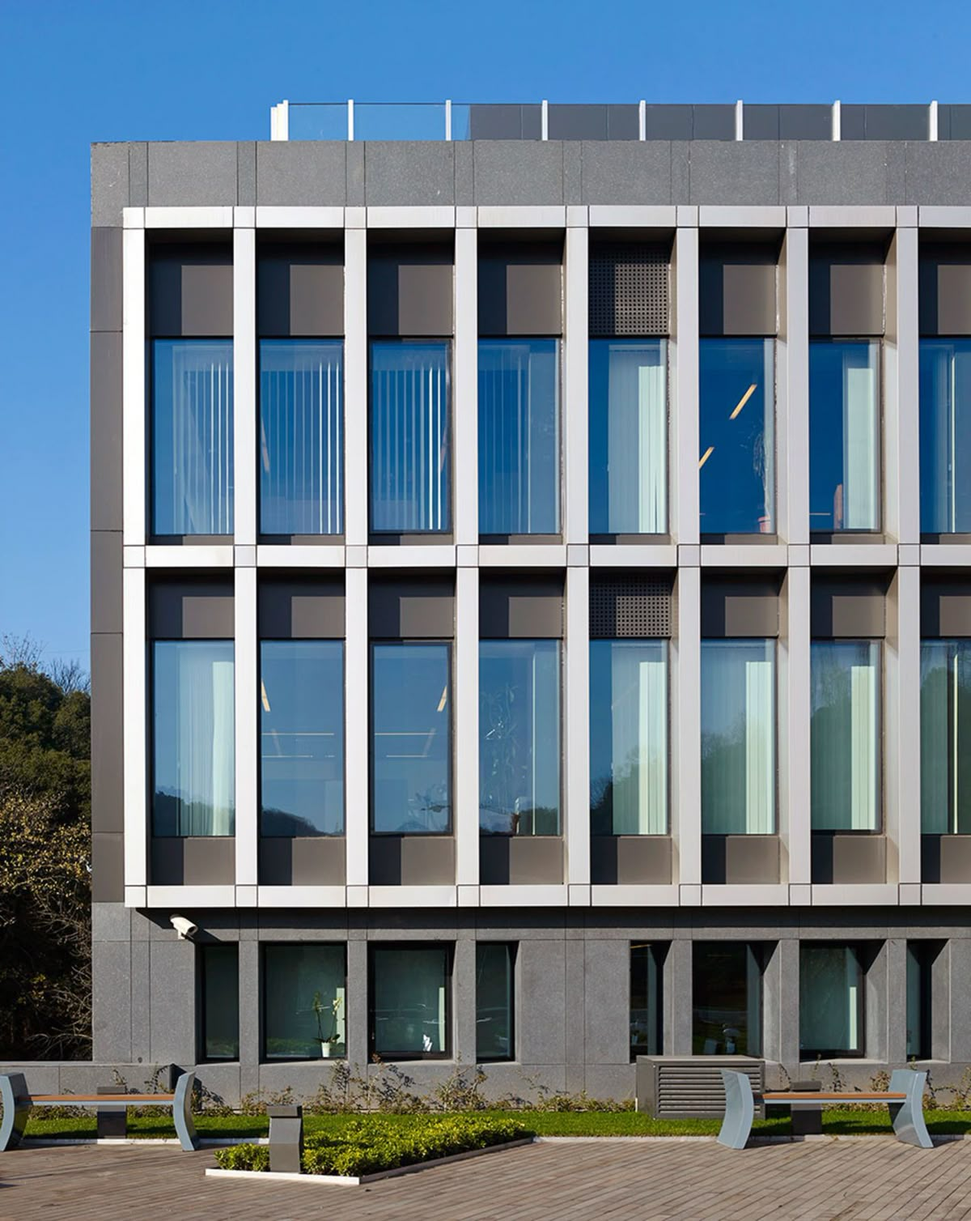glass panel: (259, 339, 343, 535), (260, 640, 344, 836), (151, 339, 234, 535), (152, 640, 235, 836), (478, 338, 560, 535), (479, 640, 561, 835), (589, 338, 668, 534), (371, 643, 452, 834), (370, 341, 451, 532), (590, 639, 668, 835), (699, 338, 775, 534), (701, 639, 776, 834), (810, 341, 880, 532), (811, 640, 880, 832), (920, 339, 971, 534), (921, 639, 971, 834), (263, 944, 346, 1059), (371, 947, 449, 1058), (693, 942, 763, 1055), (799, 944, 864, 1060), (199, 944, 239, 1061), (476, 942, 515, 1061), (630, 943, 663, 1061), (905, 942, 931, 1059)
